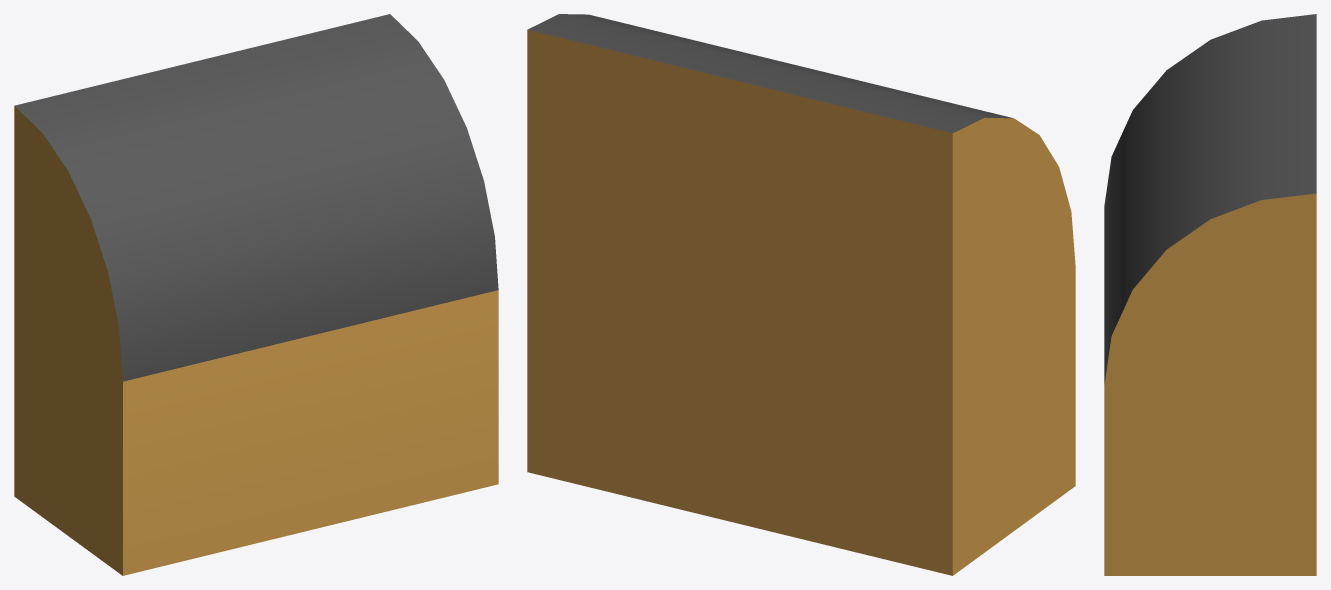
File: Skate_Block_Wave_High_Half_01.FBX
3 renders of one model, left to right at view 1: azimuth 30°, elevation 25°; view 2: azimuth 150°, elevation 25°; view 3: azimuth 270°, elevation 25°, orthographic. The views are drawn at different scales.
Parts seen in each view (by area): view 1: Skate_Block_Wave_High_Half_01; view 2: Skate_Block_Wave_High_Half_01; view 3: Skate_Block_Wave_High_Half_01.
Boxes of the visible parts, x1,y1,x2,y2 form: Skate_Block_Wave_High_Half_01: (14, 14, 498, 575); Skate_Block_Wave_High_Half_01: (527, 14, 1075, 575); Skate_Block_Wave_High_Half_01: (1104, 14, 1316, 575).
Size of the model in its own units: 3 by 2.98 by 1.5.
